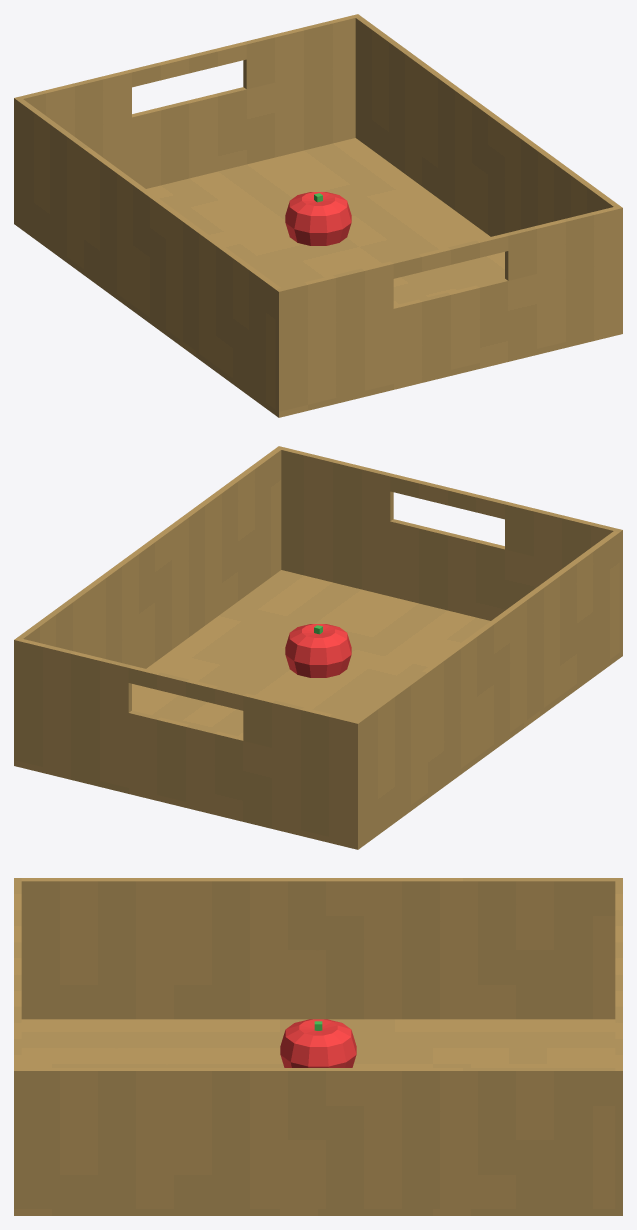
The model's file is toma.fbx.
3 renders of one model, top to bottom at view 1: azimuth 30°, elevation 25°; view 2: azimuth 150°, elevation 25°; view 3: azimuth 270°, elevation 25°, orthographic. The views are drawn at different scales.
Parts seen in each view (by area): view 1: cube_3, cube, cube_1, cube_2, cube_7, cube_4, cube_5, cube_9, cube_11, sphere, cube_6, cube_8; view 2: cube_3, cube, cube_7, cube_2, cube_1, cube_11, cube_9, cube_5, cube_4, sphere, cube_8, cube_6; view 3: cube_3, cube_2, cube, sphere, cube_5, cube_9, cube_1, cube_7, cube_4, cube_6, cube_8, cube_11.
Boxes of the visible parts, x1,y1,x2,y2 form: cube_3: (17,99,280,409); cube: (14,138,622,417); cube_1: (275,253,622,411); cube_2: (355,16,619,236); cube_7: (14,63,355,219); cube_4: (275,261,393,336); cube_5: (505,205,622,280); cube_9: (243,14,360,89); cube_11: (14,70,131,144); sphere: (285,192,351,245); cube_6: (390,233,508,278); cube_8: (129,42,246,87); cube_3: (356,531,619,841); cube: (14,570,622,849); cube_7: (14,685,361,843); cube_2: (17,448,281,668); cube_1: (281,495,622,651); cube_11: (243,693,361,768); cube_9: (14,637,131,712); cube_5: (276,446,393,521); cube_4: (505,502,622,576); sphere: (285,624,351,677); cube_8: (128,665,246,710); cube_6: (390,474,507,519); cube_3: (21,878,615,1019); cube_2: (21,1068,615,1208); cube: (14,1019,622,1215); sphere: (280,1019,356,1067); cube_5: (14,1006,21,1122); cube_9: (615,1006,622,1122); cube_1: (14,1122,21,1208); cube_7: (615,1122,622,1208); cube_4: (14,878,21,942); cube_6: (14,942,21,1006); cube_8: (615,942,622,1006); cube_11: (615,878,622,942).
Size of the model in its own units: 37.5 by 13.12 by 50.
3 materials, 3 textured.
